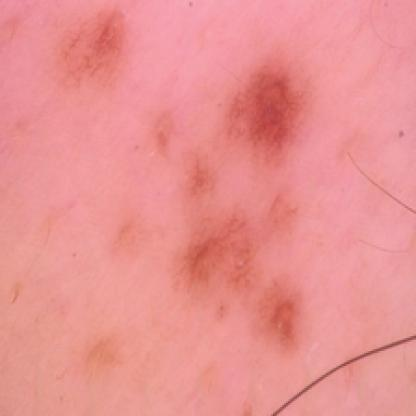benign: (173, 52, 334, 338)
